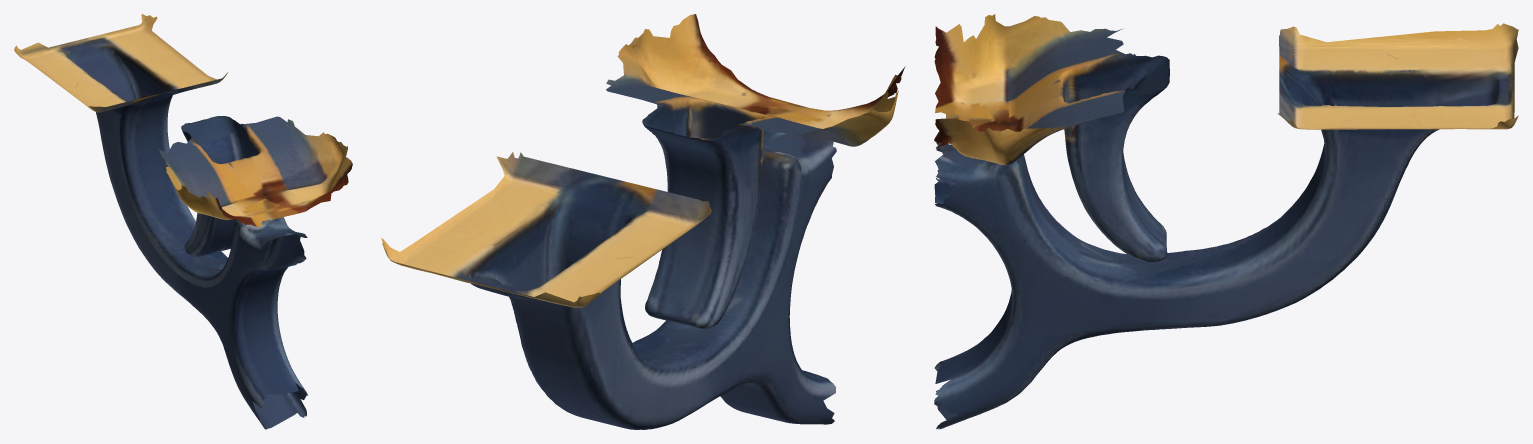
The model's file is lever_rifle_lever.glb.
3 renders of one model, left to right at view 1: azimuth 30°, elevation 25°; view 2: azimuth 150°, elevation 25°; view 3: azimuth 270°, elevation 25°, orthographic. The views are drawn at different scales.
Parts seen in each view (by area): view 1: lever; view 2: lever; view 3: lever.
Boxes of the visible parts, x1=… form: lever: x1=14, y1=14, x2=352, y2=429; lever: x1=381, y1=14, x2=905, y2=429; lever: x1=934, y1=14, x2=1518, y2=429.
Size of the model in its own units: 0.0483 by 0.0689 by 0.1049.
1 material, 1 textured.
